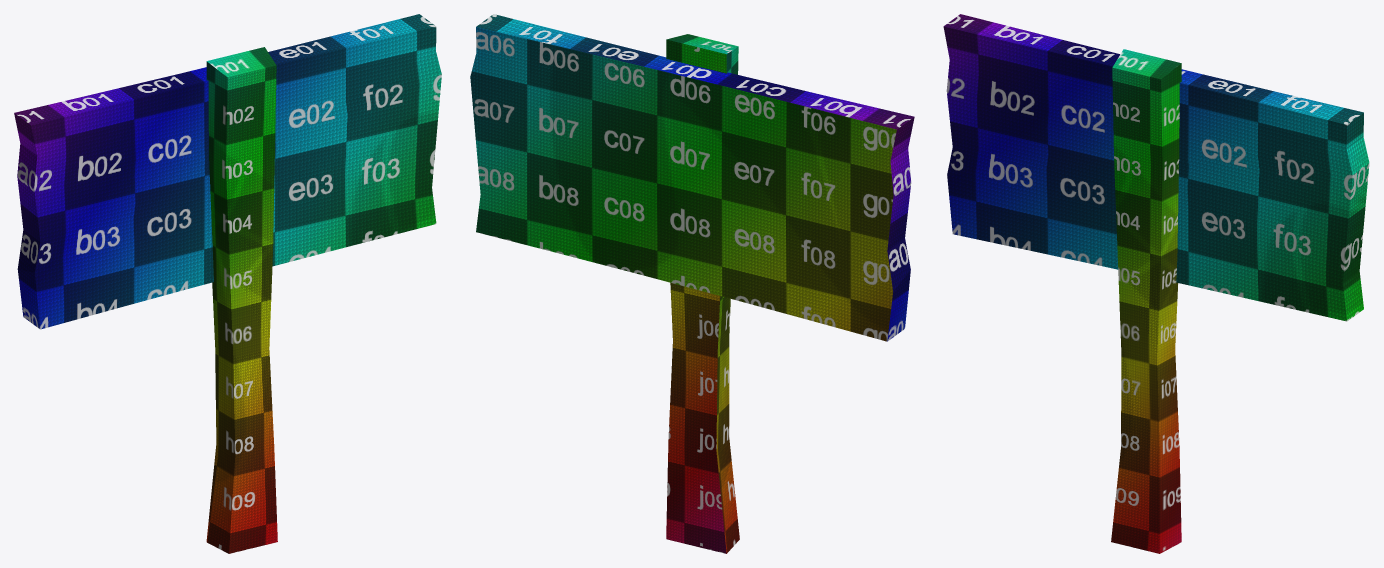
Rendered from Sign.FBX.
The picture shows the model from 3 angles, left to right: view 1: azimuth 30°, elevation 25°; view 2: azimuth 150°, elevation 25°; view 3: azimuth 330°, elevation 25°; orthographic projection. The views are drawn at different scales.
Visible parts, largest first — view 1: Sign; view 2: Sign; view 3: Sign.
Boxes of the visible parts, x1,y1,x2,y2 form: Sign: (14, 14, 441, 553); Sign: (470, 14, 914, 553); Sign: (943, 14, 1369, 553).
Size of the model in its own units: 6.95 by 7.78 by 0.9319.
